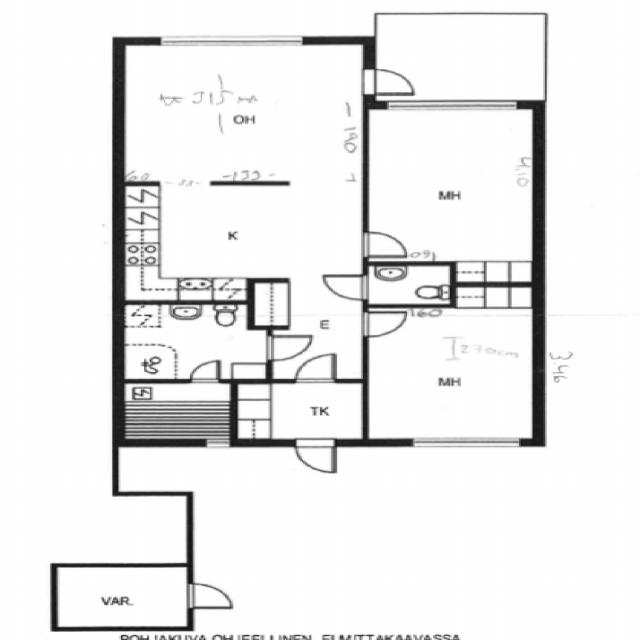door: (295, 438, 335, 473), (362, 69, 414, 94), (296, 354, 335, 384), (362, 232, 408, 257), (362, 312, 407, 336), (325, 276, 369, 300), (266, 336, 310, 360), (187, 584, 230, 608), (190, 360, 219, 384)
